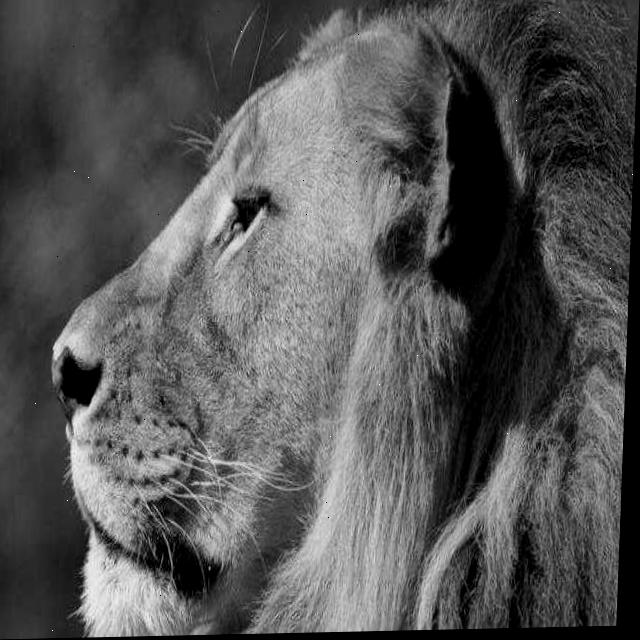Lion: (30, 78, 551, 639)
